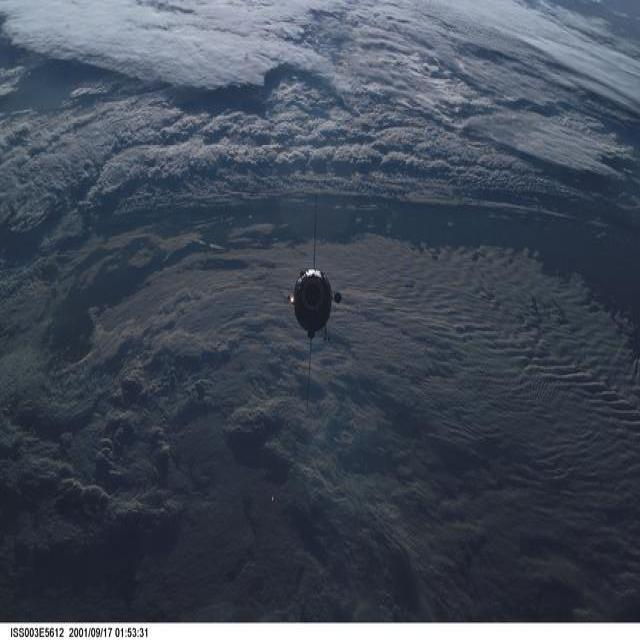satellite: (280, 205, 343, 387)
